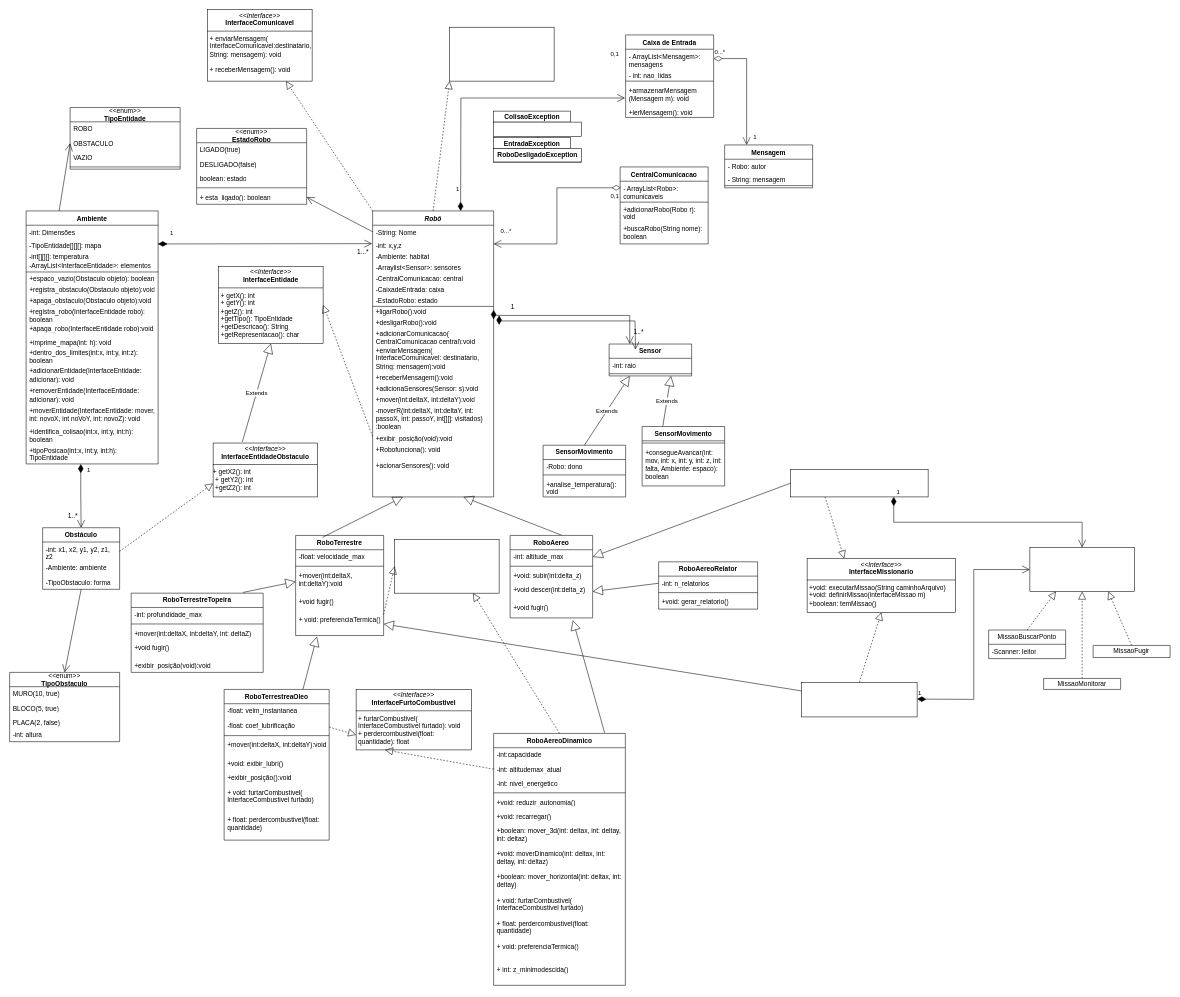
This 1180x997 diagram has some shape labels left out. Here are the shapes that lost their labels. From the top down, the centre of each, then its label:
At pixel 501 54: "<<Interface>> InterfaceSensoreavel + acionarSensores(): void".
At pixel 537 129: "ForadosLimitesException".
At pixel 859 483: "AgenteInteligenteAereo -InterfaceMissao: missao".
At pixel 446 566: "<<Interface>> InterfaceTemperatura + preferenciaTermica(): void".
At pixel 1081 569: "<<Interface>> Missao +void executar(Robo r, String CaminhoArquivo)".
At pixel 859 699: "AgenteInteligenteTerrestre -InterfaceMissao: missao +boolean: temMissao()".
